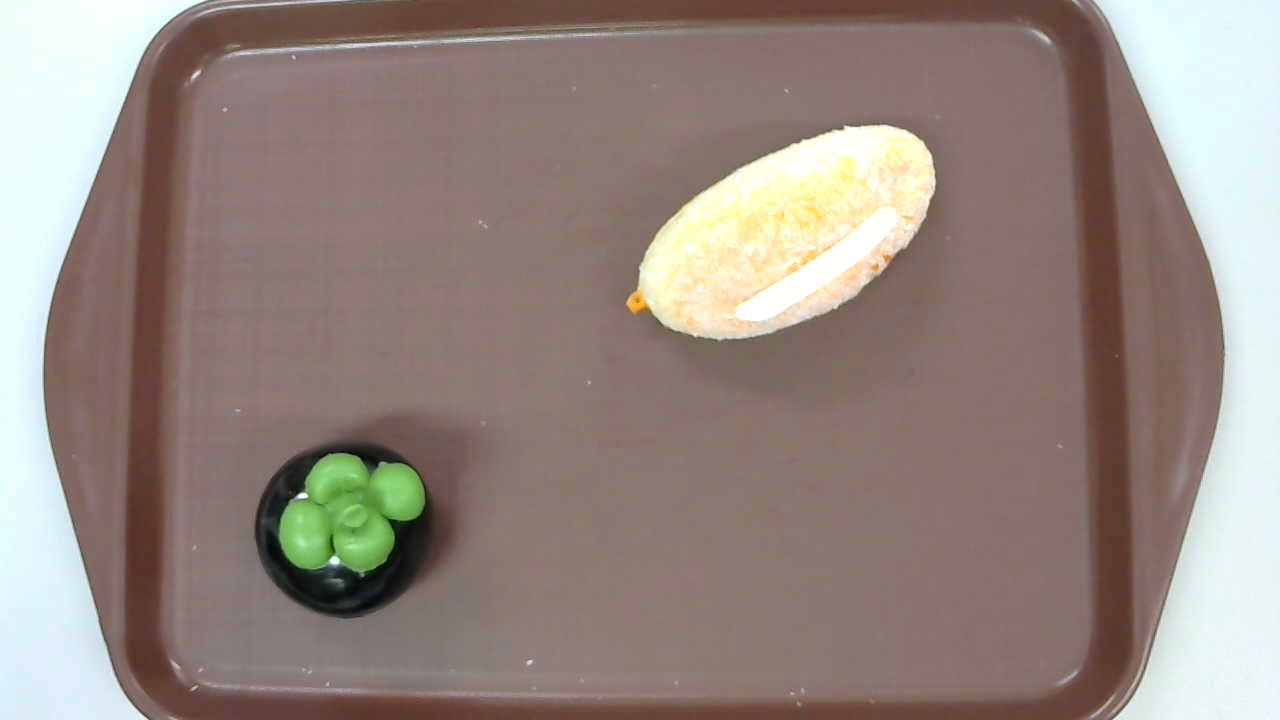coconut: (626, 124, 935, 340)
mangosteen: (255, 440, 434, 621)
